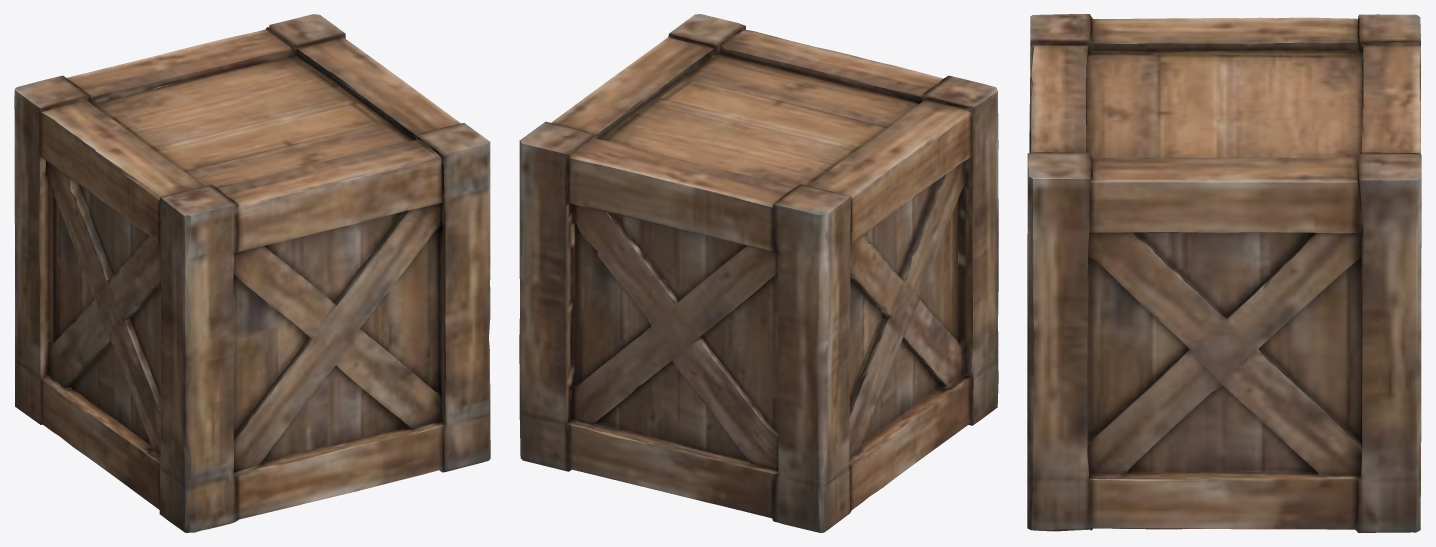
The model's file is cargo_wooden_crate_cube.glb.
3 views of the same model, side by side, from view 1: azimuth 30°, elevation 25°; view 2: azimuth 150°, elevation 25°; view 3: azimuth 270°, elevation 25° (orthographic). The views are drawn at different scales.
Parts seen in each view (by area): view 1: turn; view 2: turn; view 3: turn.
Boxes of the visible parts, x1=… form: turn: x1=14, y1=14, x2=490, y2=532; turn: x1=519, y1=14, x2=998, y2=532; turn: x1=1027, y1=14, x2=1421, y2=532.
Size of the model in its own units: 1.21 by 1.2 by 1.21.
Materials: 1 (1 with a texture image).
